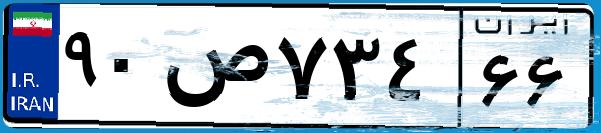0: (110, 28, 158, 98)
3: (330, 28, 385, 110)
4: (385, 28, 445, 110)
6: (475, 38, 525, 113), (525, 38, 570, 115)
7: (270, 28, 330, 110)
9: (57, 26, 110, 100)
ص: (158, 20, 270, 120)
